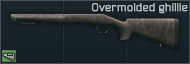Remington M700 Hogue Overmolded Ghillie stock: (0, 0, 190, 64)
